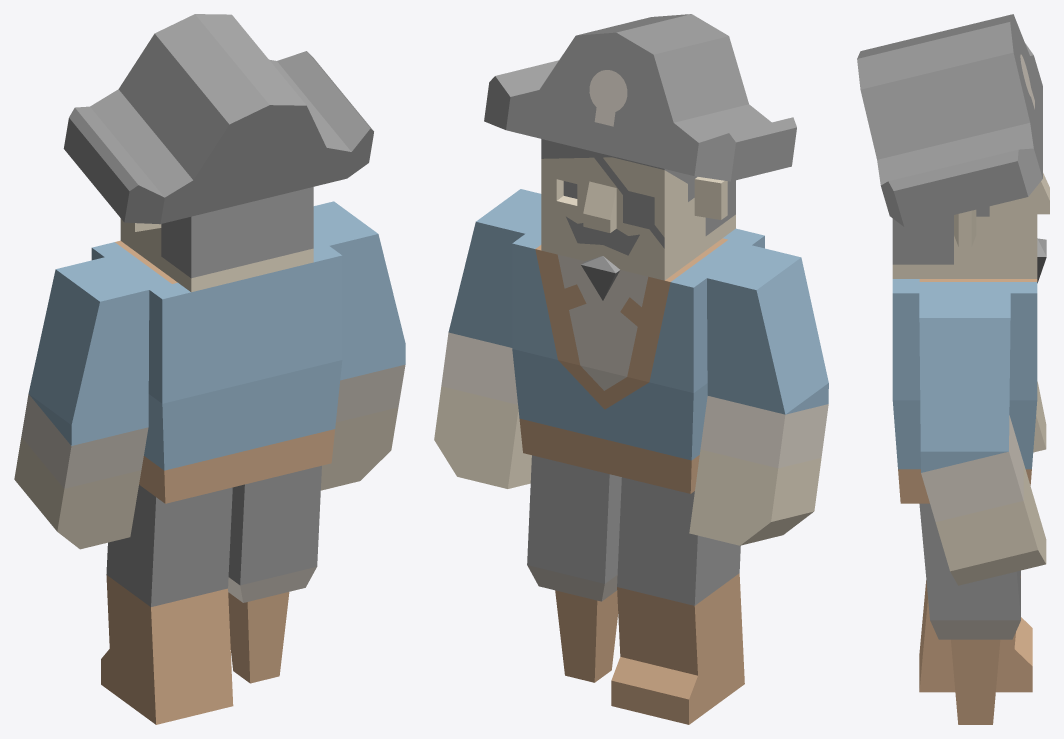
Rendered from pirate_officer.glb.
The picture shows the model from 3 angles, left to right: view 1: azimuth 30°, elevation 25°; view 2: azimuth 150°, elevation 25°; view 3: azimuth 270°, elevation 25°; orthographic projection. The views are drawn at different scales.
Parts seen in each view (by area): view 1: Group 85 (×2), body 2, armLeft 2, legLeft 2, armRight 2, legRight 2; view 2: Group 85 (×2), body 2, armLeft 2, legLeft 2, armRight 2, legRight 2; view 3: Group 85 (×2), armRight 2, body 2, legRight 2, legLeft 2, armLeft 2.
Part boxes in pixels (bbox=[...]): Group 85 (×2): bbox=[63, 14, 373, 292]; body 2: bbox=[91, 235, 342, 503]; armLeft 2: bbox=[14, 257, 149, 549]; legLeft 2: bbox=[101, 485, 233, 724]; armRight 2: bbox=[313, 201, 405, 490]; legRight 2: bbox=[228, 465, 321, 683]; Group 85 (×2): bbox=[484, 14, 796, 300]; body 2: bbox=[512, 222, 764, 493]; armLeft 2: bbox=[689, 245, 828, 545]; legLeft 2: bbox=[611, 477, 744, 724]; armRight 2: bbox=[434, 189, 541, 488]; legRight 2: bbox=[527, 455, 621, 682]; Group 85 (×2): bbox=[857, 14, 1049, 283]; armRight 2: bbox=[919, 293, 1046, 585]; body 2: bbox=[892, 279, 1037, 503]; legRight 2: bbox=[919, 503, 1020, 724]; legLeft 2: bbox=[919, 570, 1032, 692]; armLeft 2: bbox=[1033, 381, 1046, 452].
Size of the model in its own units: 0.6239 by 1.17 by 0.3048.
